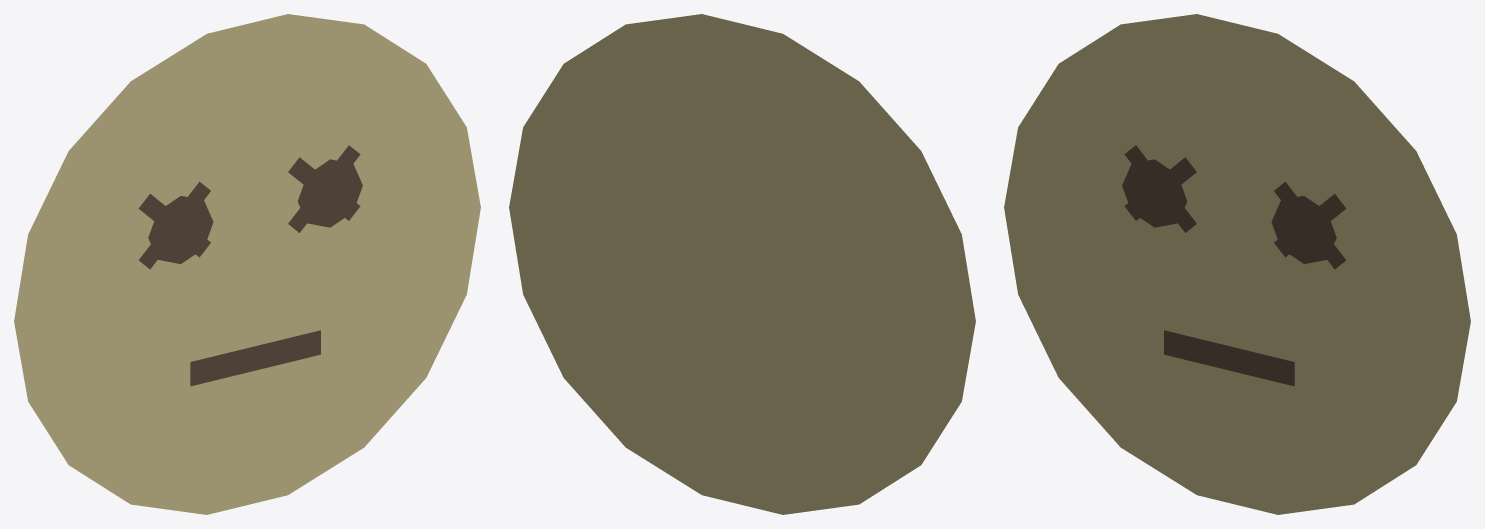
Rendered from dead.glb.
3 renders of one model, left to right at view 1: azimuth 30°, elevation 25°; view 2: azimuth 150°, elevation 25°; view 3: azimuth 330°, elevation 25°, orthographic.
Parts seen in each view (by area): view 1: dead; view 2: dead; view 3: dead.
Boxes of the visible parts, x1,y1,x2,y2 form: dead: [14, 14, 480, 514]; dead: [509, 14, 975, 514]; dead: [1004, 14, 1470, 514].
Bounding box in the file's own units: 1 × 0.9848 × 0.03.
